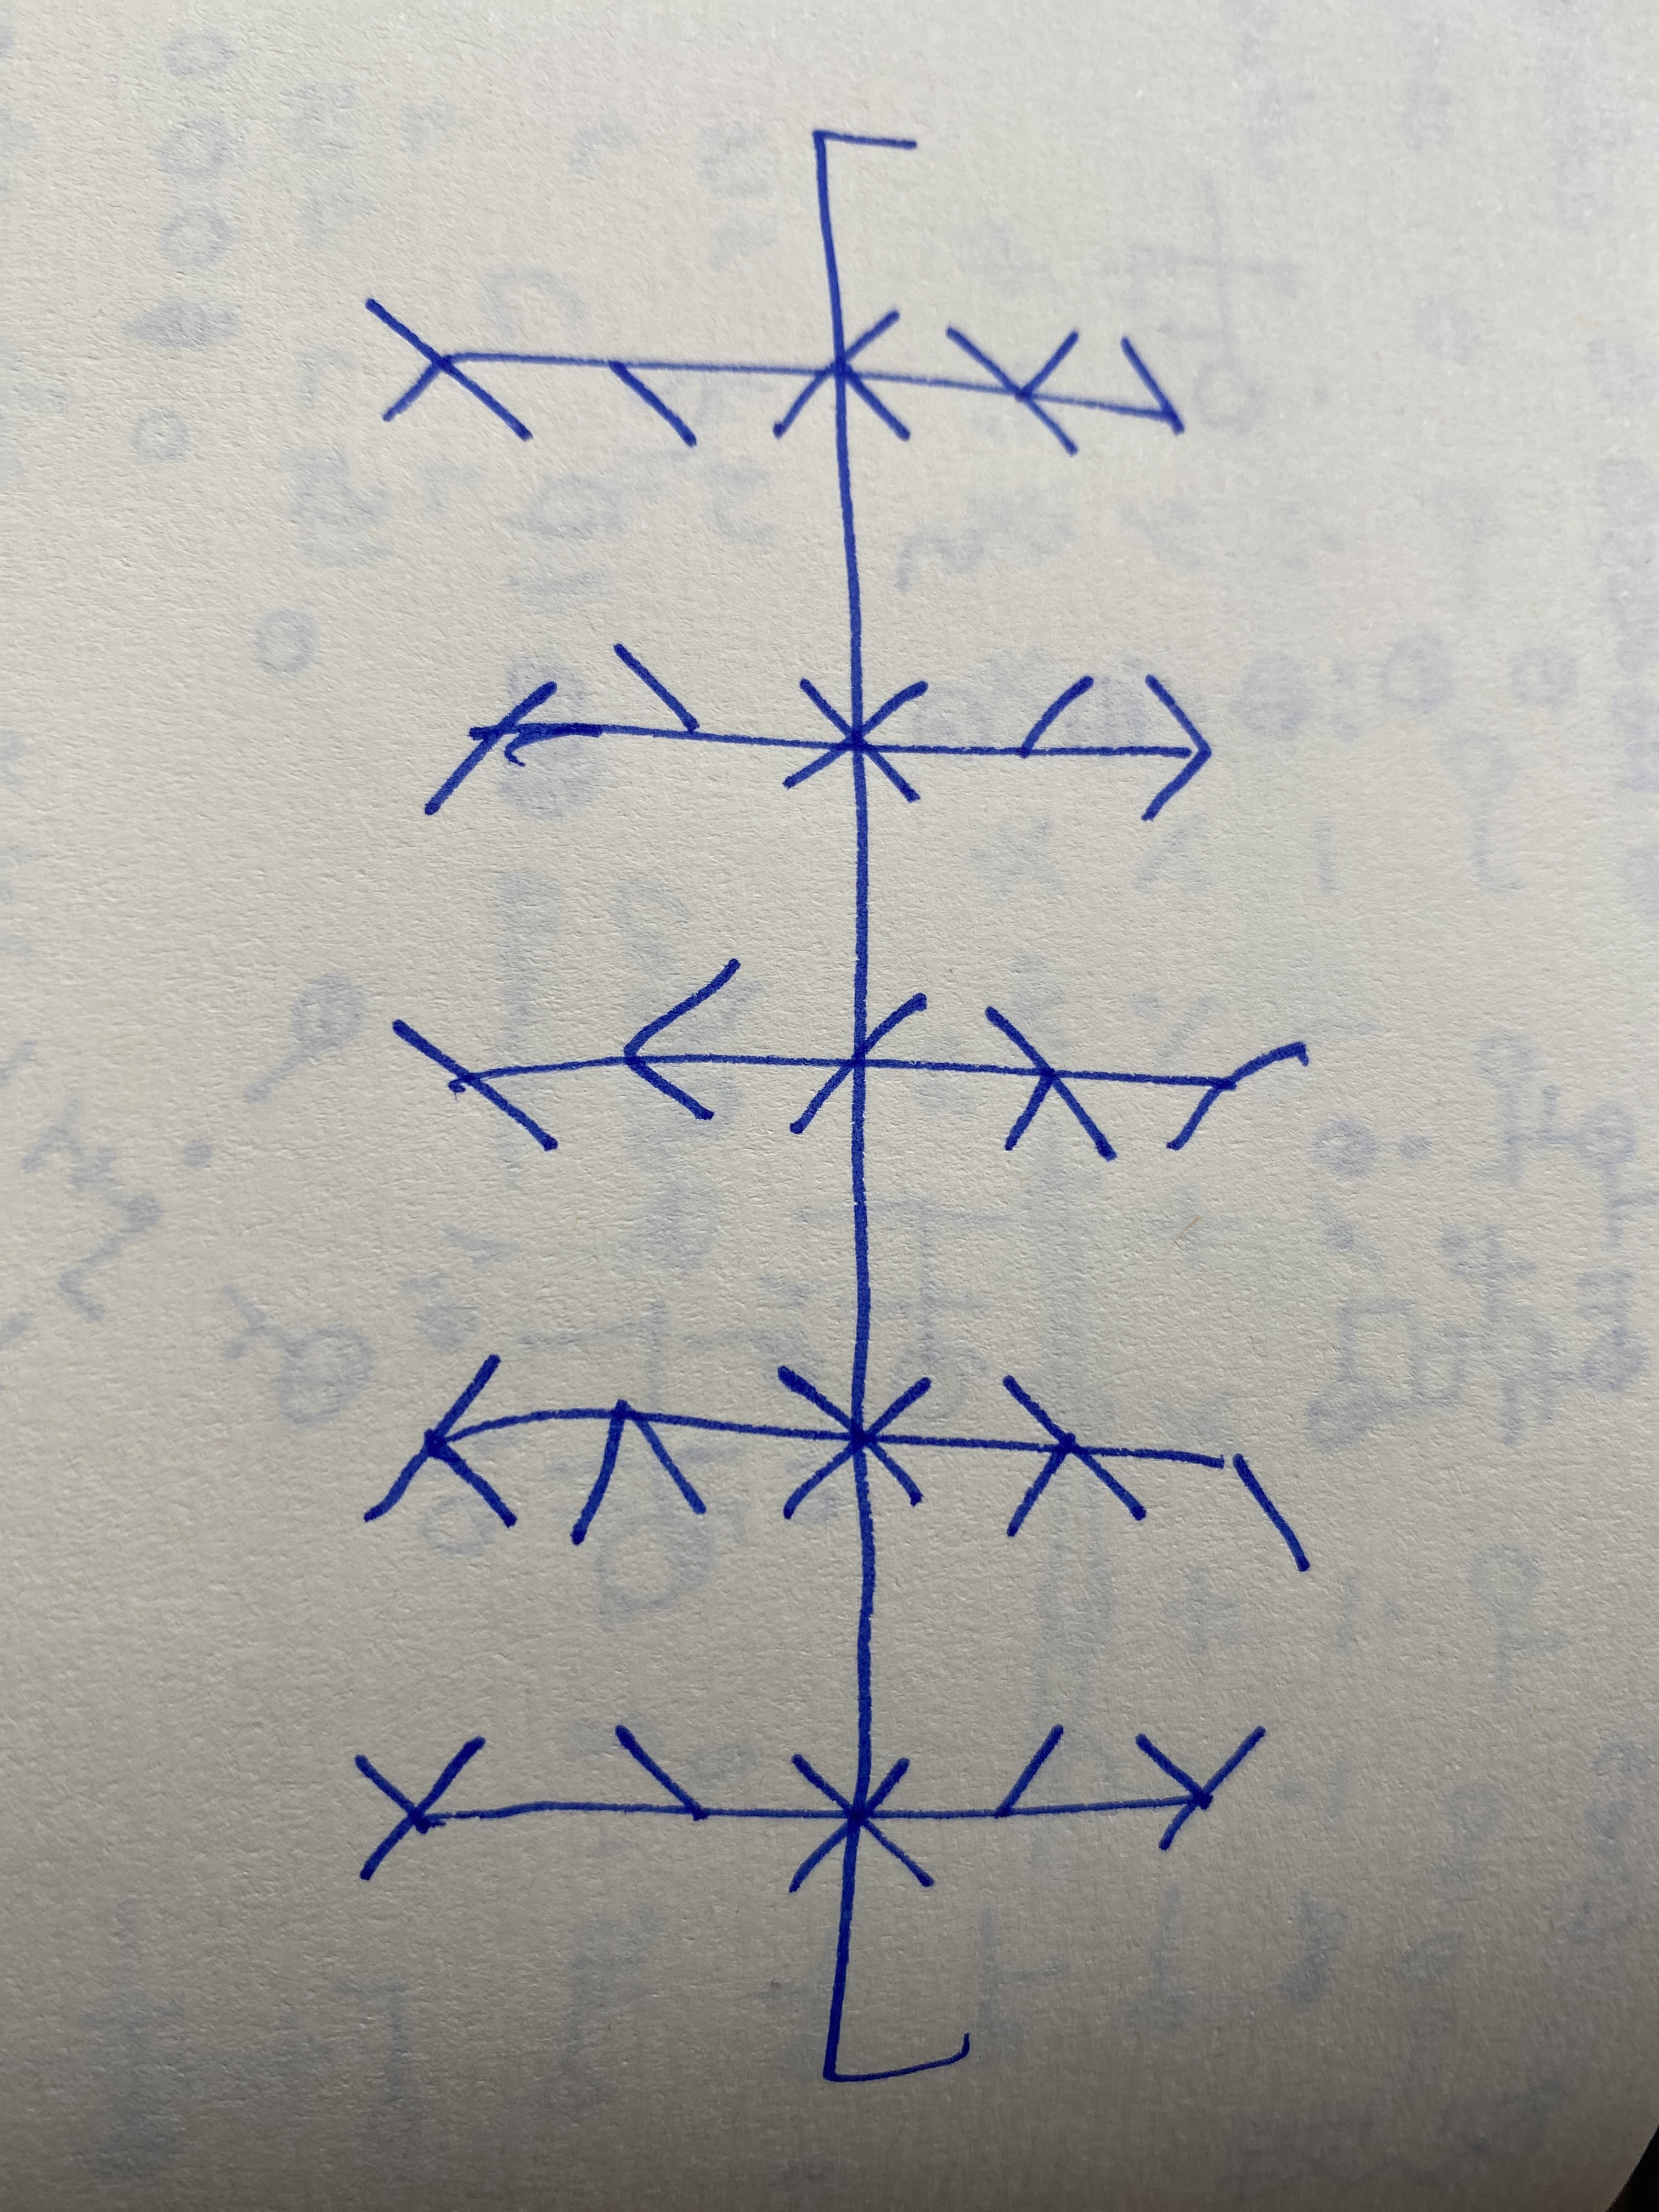Bar: (362, 1352, 1309, 1576), (389, 954, 1309, 1160), (350, 1721, 1265, 1892), (422, 639, 1213, 824), (359, 296, 1187, 458)
Barcode: (352, 127, 1312, 2087)
End: (823, 1886, 971, 2087)
Start: (810, 129, 918, 307)
